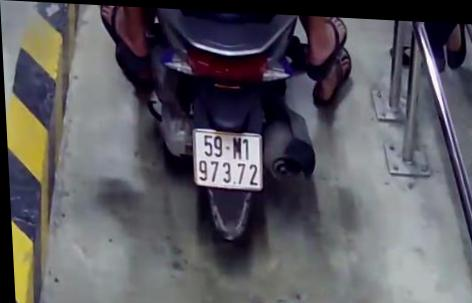License_Plate: (182, 123, 271, 203)
